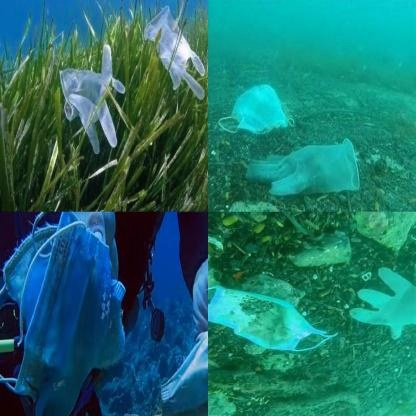Mask: (15, 212, 125, 415), (210, 279, 342, 360), (1, 212, 71, 311), (216, 84, 296, 135), (162, 330, 207, 416)
glove: (56, 41, 125, 154), (245, 137, 365, 197), (140, 6, 204, 106), (350, 266, 416, 344)
